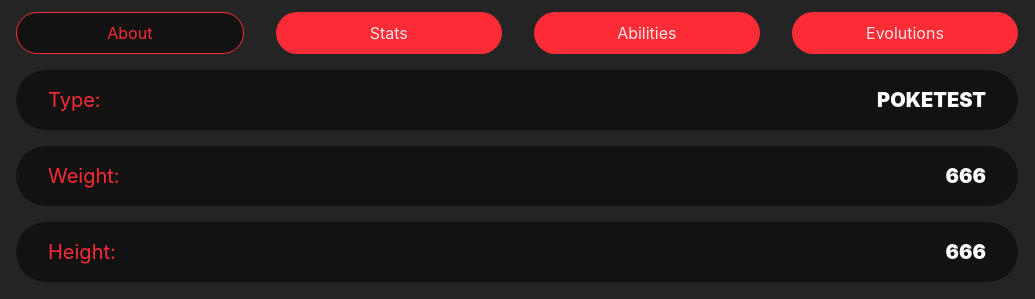
Test: Should show abilities content when click on abilities
Step 1. Click the button "Abilities" → (647, 33), box x1=534 y1=12 x2=760 y2=54
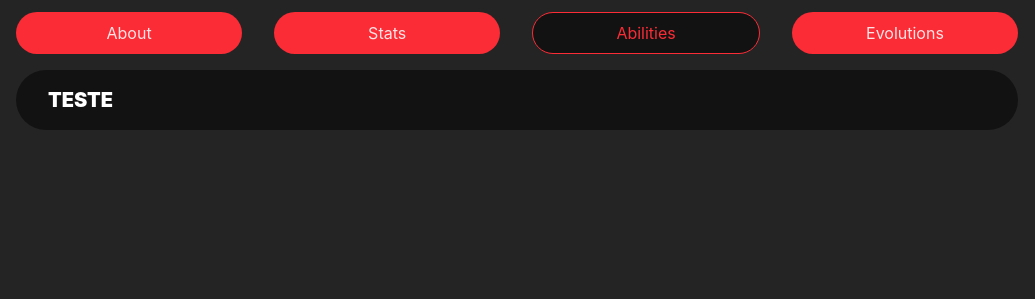
Check: the text "Teste" is shown, box x1=48 y1=86 x2=113 y2=114
